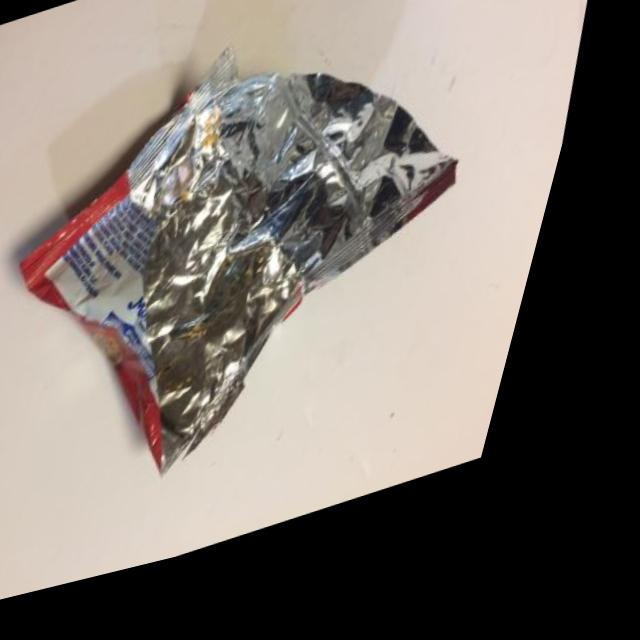trash: (0, 0, 565, 595)
